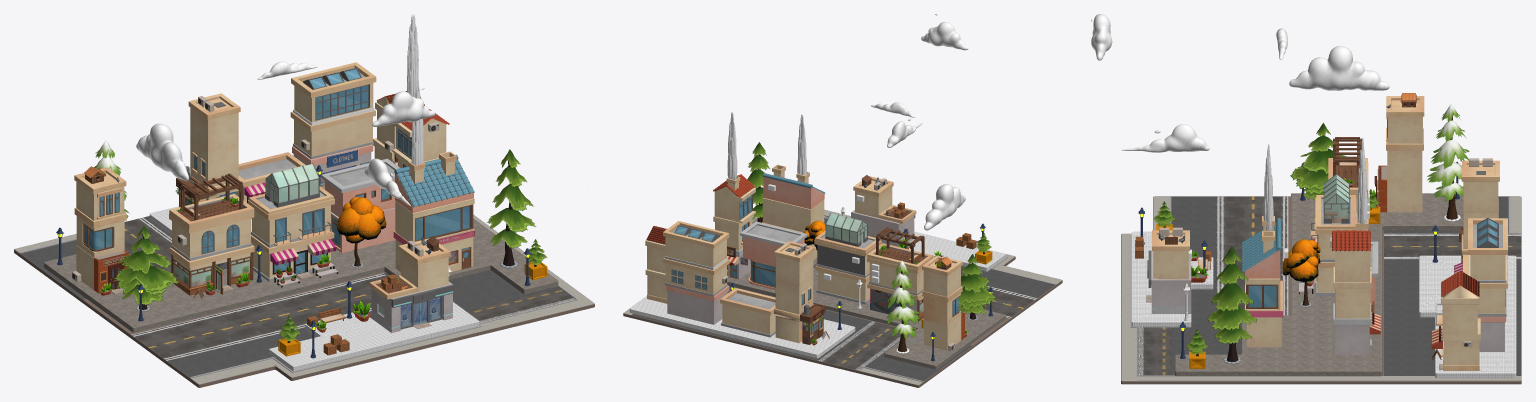
The picture shows the model from 3 angles, left to right: view 1: azimuth 30°, elevation 25°; view 2: azimuth 150°, elevation 25°; view 3: azimuth 270°, elevation 25°; orthographic projection. The views are drawn at different scales.
Visible parts, largest first — view 1: Land_21, Middle-concrete_10, Right-concrete_0, Cube.002_Plate.004_74, Cube.014_59, Cube.012_62, Cube.018_53, Cube.006_67, Cube.019_52, Object_10, model_4.015_4, Cube.013_61 (+32 smaller); view 2: Land_21, Middle-concrete_10, Left-concrete_11, Cube.010_64, Cube.014_59, Cube.002_Plate.001_76, Cube.006_67, Cube.002_Plate.004_74, Building.008_91, Object_10, model_3.004_6, Cube.016_55 (+32 smaller); view 3: Land_21, Middle-concrete_10, Left-concrete_11, model_3.005_5, model_0.003_114, Right-concrete_0, model_3.004_6, Cube.022_48, Building.021_85, Cube.002_Plate.004_74, Cube.014_59, Cube.016_55 (+29 smaller).
Boxes of the visible parts, x1=… form: Land_21: x1=14, y1=214, x2=594, y2=387; Middle-concrete_10: x1=44, y1=218, x2=558, y2=332; Right-concrete_0: x1=269, y1=302, x2=479, y2=371; Cube.002_Plate.004_74: x1=394, y1=151, x2=474, y2=212; Cube.014_59: x1=291, y1=62, x2=376, y2=122; Cube.012_62: x1=251, y1=232, x2=338, y2=287; Cube.018_53: x1=248, y1=198, x2=334, y2=247; Cube.006_67: x1=290, y1=110, x2=375, y2=159; Cube.019_52: x1=371, y1=281, x2=454, y2=332; Object_10: x1=169, y1=173, x2=254, y2=229; model_4.015_4: x1=113, y1=226, x2=179, y2=309; Cube.013_61: x1=169, y1=245, x2=254, y2=298; Land_21: x1=623, y1=209, x2=1062, y2=387; Middle-concrete_10: x1=727, y1=218, x2=1005, y2=369; Left-concrete_11: x1=629, y1=296, x2=855, y2=358; Cube.010_64: x1=720, y1=288, x2=775, y2=337; Cube.014_59: x1=663, y1=221, x2=729, y2=269; Cube.002_Plate.001_76: x1=740, y1=221, x2=807, y2=265; Cube.006_67: x1=663, y1=258, x2=729, y2=296; Cube.002_Plate.004_74: x1=763, y1=164, x2=825, y2=209; Building.008_91: x1=666, y1=285, x2=729, y2=324; Object_10: x1=867, y1=227, x2=933, y2=270; model_3.004_6: x1=886, y1=260, x2=919, y2=351; Cube.016_55: x1=814, y1=212, x2=880, y2=252; Land_21: x1=1121, y1=196, x2=1521, y2=384; Middle-concrete_10: x1=1175, y1=193, x2=1463, y2=376; Left-concrete_11: x1=1419, y1=255, x2=1516, y2=378; model_3.005_5: x1=1207, y1=246, x2=1256, y2=361; model_0.003_114: x1=1289, y1=46, x2=1389, y2=90; Right-concrete_0: x1=1131, y1=231, x2=1213, y2=327; model_3.004_6: x1=1427, y1=103, x2=1469, y2=219; Cube.022_48: x1=1332, y1=218, x2=1370, y2=282; Building.021_85: x1=1462, y1=158, x2=1499, y2=212; Cube.002_Plate.004_74: x1=1242, y1=216, x2=1281, y2=278; Cube.014_59: x1=1468, y1=218, x2=1507, y2=282; Cube.016_55: x1=1316, y1=173, x2=1355, y2=229.
Size of what is drawn, in the model's own units: 30.2 by 17.16 by 24.44.
68 materials, 60 textured.
